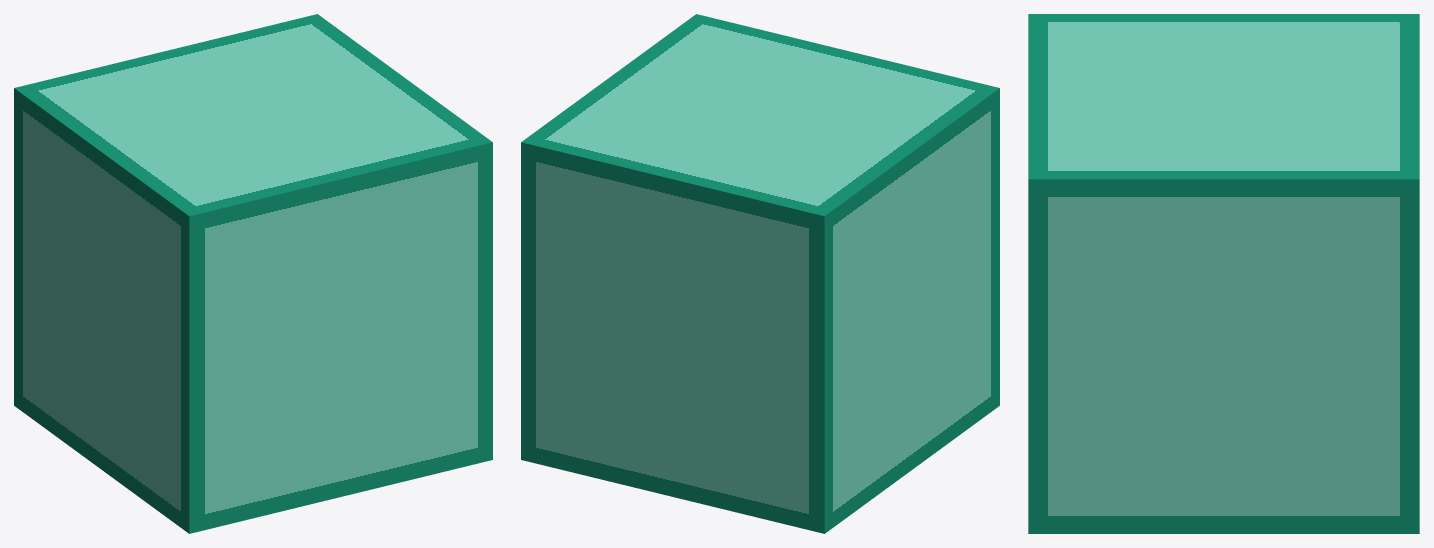
File: blob.obj
3 renders of one model, left to right at view 1: azimuth 30°, elevation 25°; view 2: azimuth 150°, elevation 25°; view 3: azimuth 270°, elevation 25°, orthographic. The views are drawn at different scales.
Parts seen in each view (by area): view 1: cuboid; view 2: cuboid; view 3: cuboid.
Boxes of the visible parts, bbox=[...] form: cuboid: bbox=[14, 14, 492, 533]; cuboid: bbox=[521, 14, 999, 533]; cuboid: bbox=[1028, 14, 1419, 533].
Size of the model in its own units: 0.625 by 0.625 by 0.625.
Materials: 2 (2 with a texture image).
